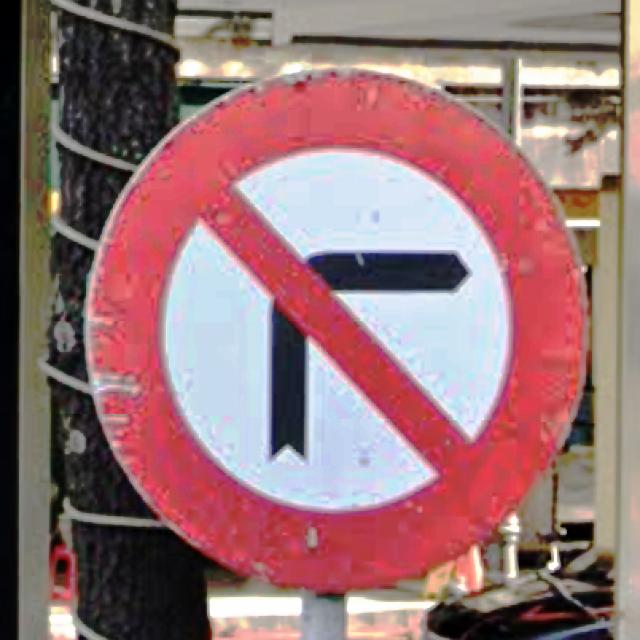noturnright: (83, 67, 592, 595)
